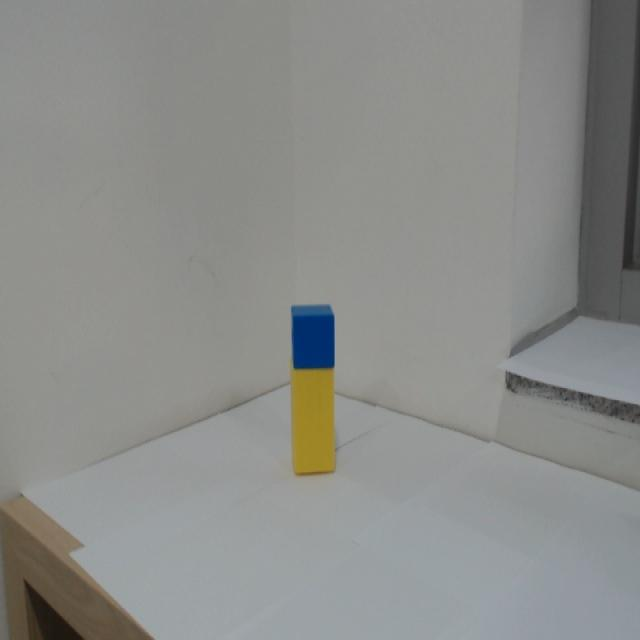cube: (290, 302, 337, 367)
